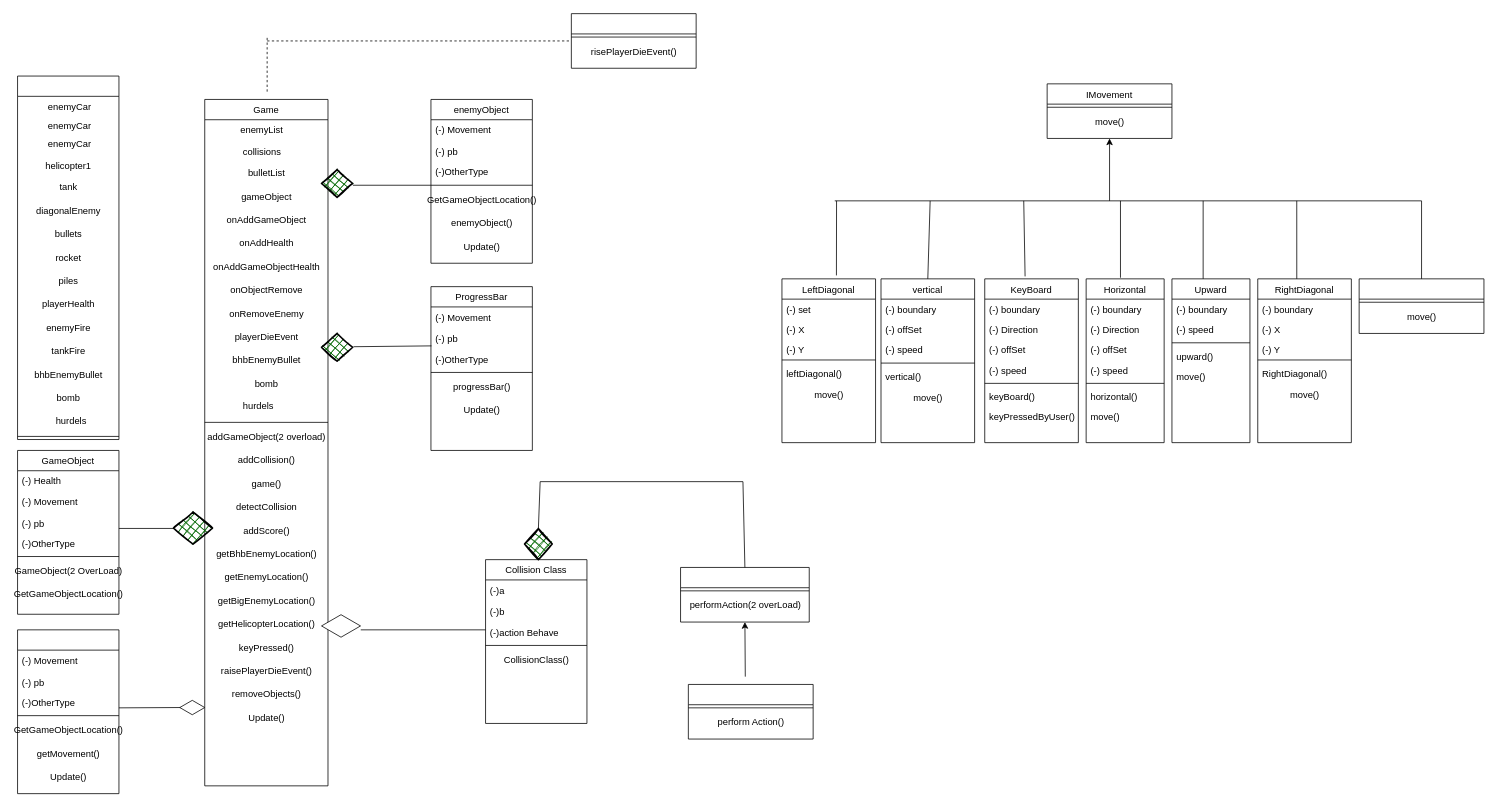
The diagram is 1498 pixels wide and 807 high, and some of its shapes have lost their labels. Each missing label, with the box of its shape:
Bullet: (17, 629, 119, 794)
GameObjectType: (17, 75, 119, 440)
ICollision: (680, 567, 809, 622)
IGame: (571, 13, 696, 68)
PlayerCollision: (688, 684, 813, 739)
Static: (1358, 278, 1484, 333)
